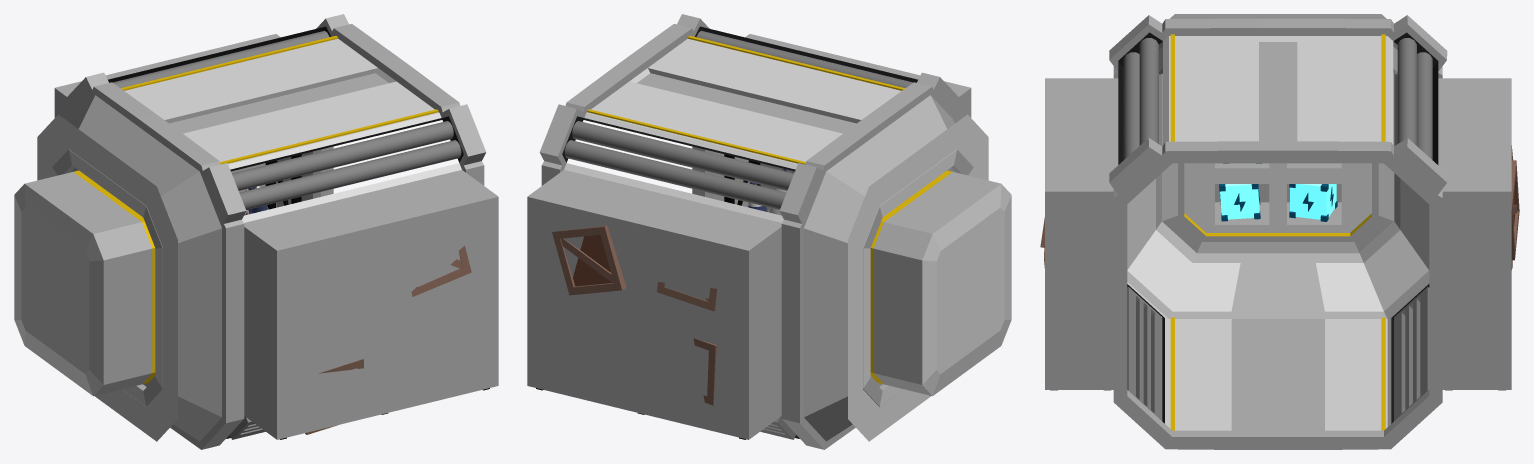
File: Corridor_Storage_Ending.fbx
3 renders of one model, left to right at view 1: azimuth 30°, elevation 25°; view 2: azimuth 150°, elevation 25°; view 3: azimuth 270°, elevation 25°, orthographic. The views are drawn at different scales.
Visible parts, largest first — view 1: Storage_Corridor_Ending, Storage_Corridor_Ending.001, Crate.006; view 2: Storage_Corridor_Ending, Crate.003, Storage_Corridor_Ending.001, Crate.002, Crate.004; view 3: Storage_Corridor_Ending, EnergyCubes, Storage_Corridor_Ending.001, Crate.003.
Part boxes in pixels (x1,y1,x2,y2): Storage_Corridor_Ending: (14, 14, 498, 449); Storage_Corridor_Ending.001: (73, 36, 438, 384); Crate.006: (411, 245, 471, 296); Storage_Corridor_Ending: (527, 14, 1011, 449); Crate.003: (552, 225, 626, 295); Storage_Corridor_Ending.001: (587, 36, 952, 384); Crate.002: (657, 282, 716, 311); Crate.004: (693, 338, 716, 405); Storage_Corridor_Ending: (1045, 14, 1511, 449); EnergyCubes: (1219, 163, 1337, 221); Storage_Corridor_Ending.001: (1170, 34, 1385, 430); Crate.003: (1511, 160, 1519, 260).
Size of the model in its own units: 543 by 428 by 614.
